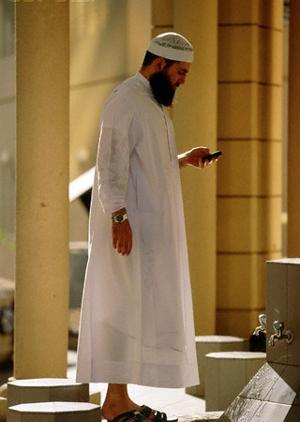person: (76, 35, 219, 422)
